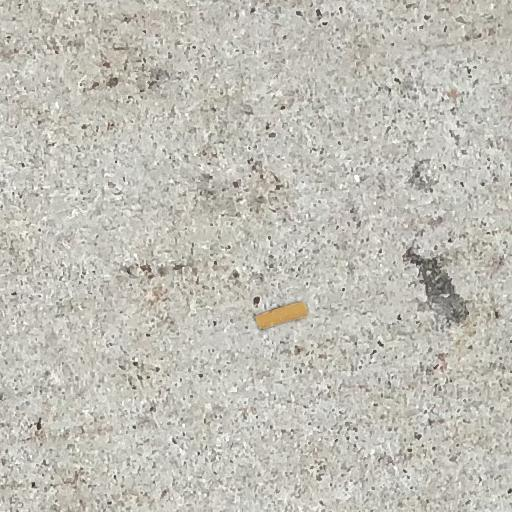smoke: (256, 302, 307, 329)
